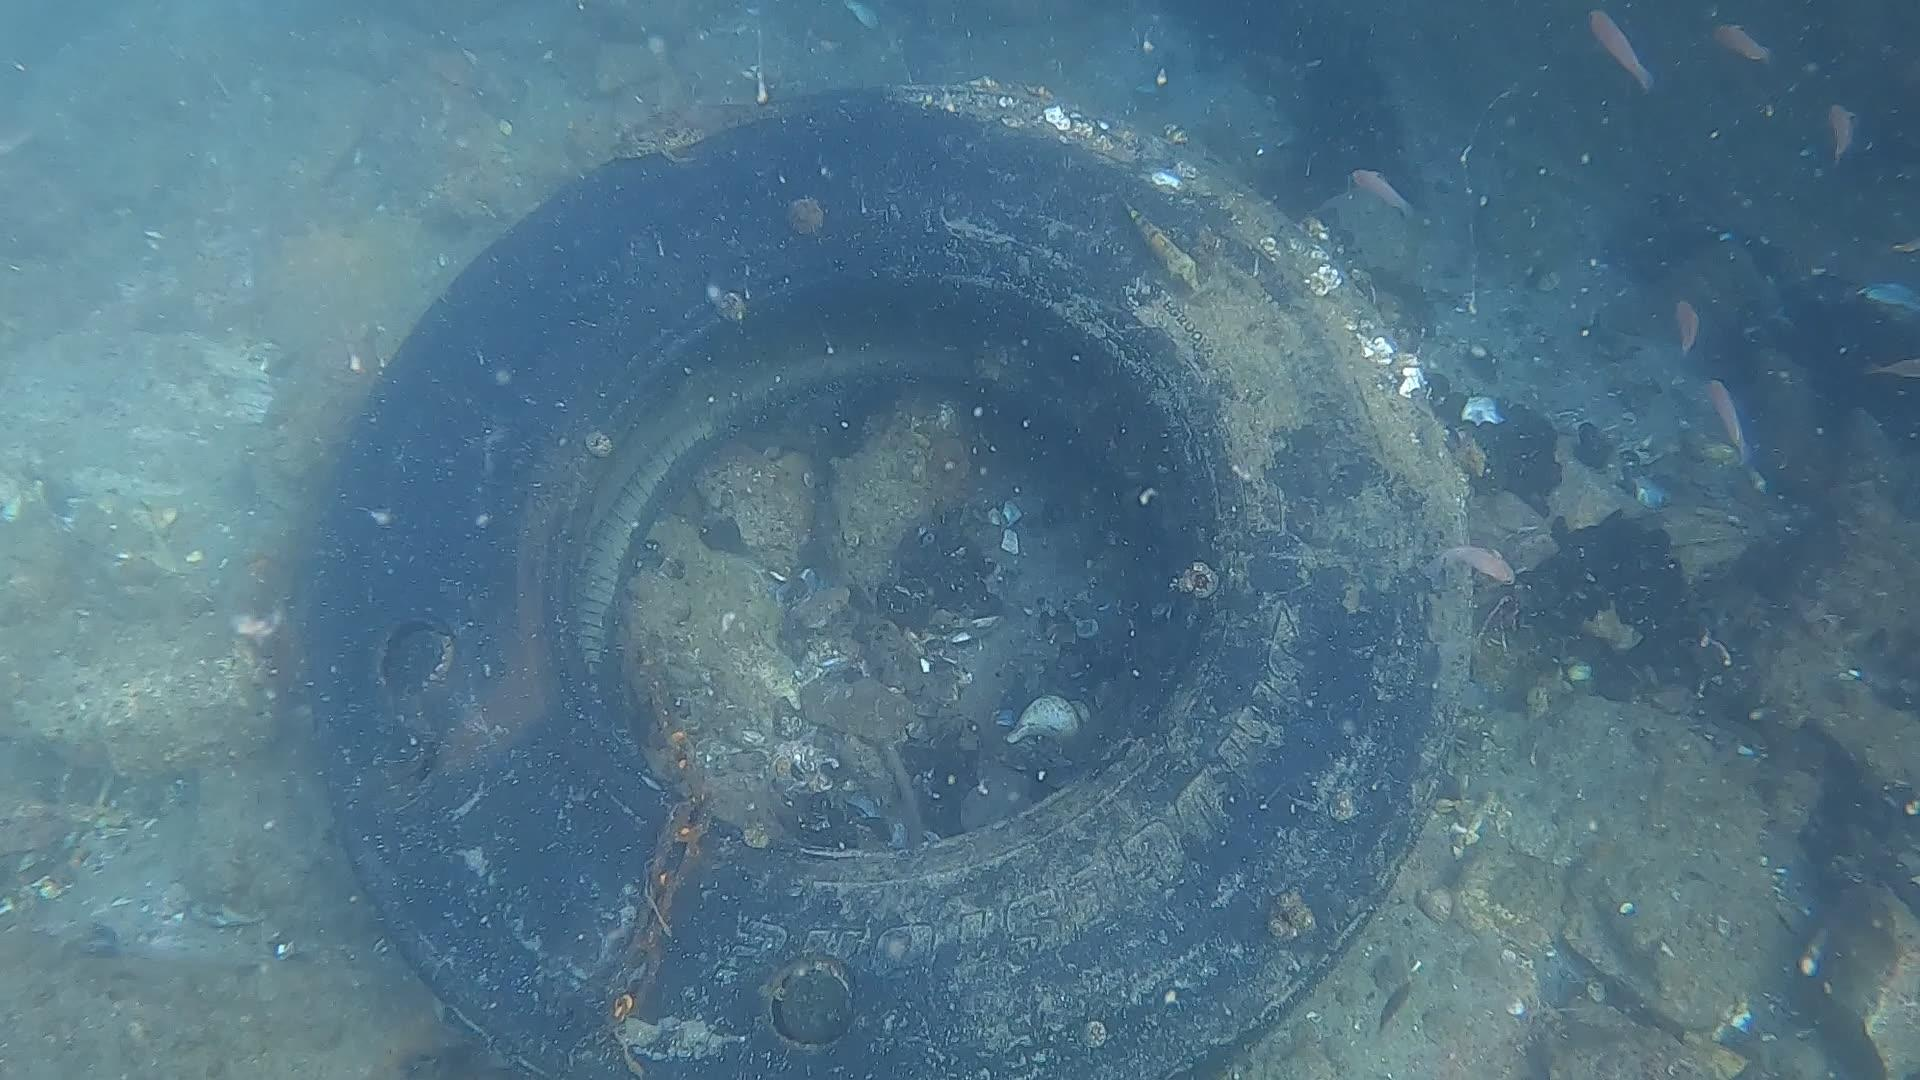tire: (295, 98, 1477, 1080)
